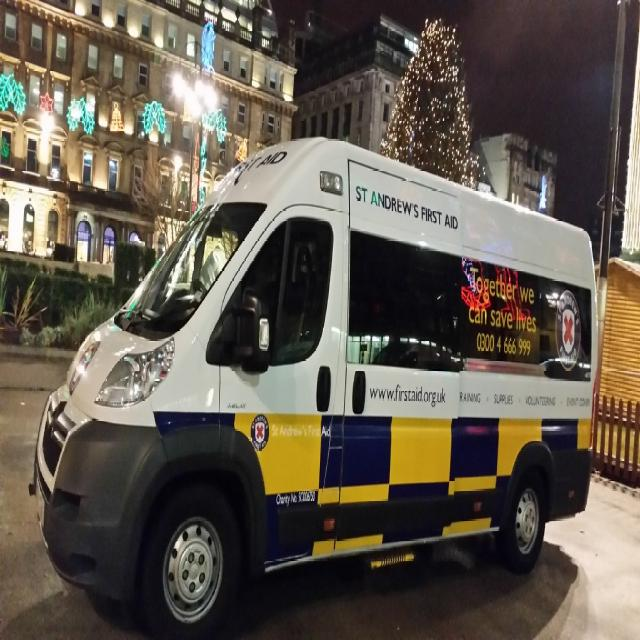Ambulance: (26, 132, 600, 638)
